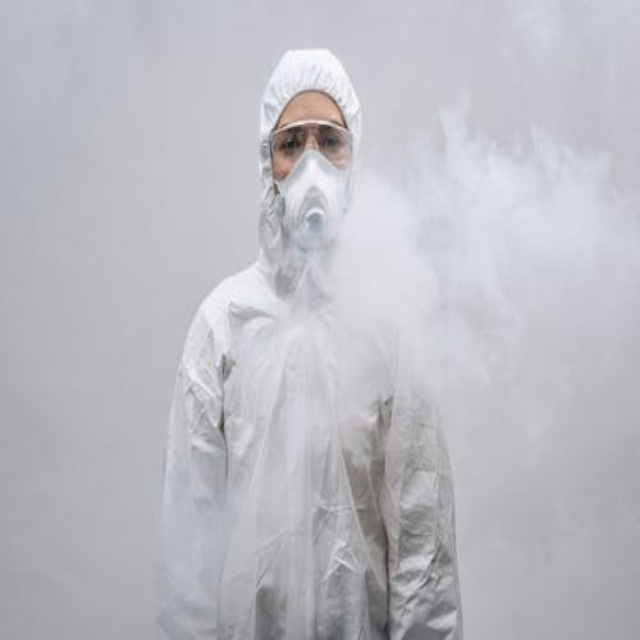Gafas: (269, 122, 352, 168)
Mascara: (273, 146, 348, 255)
